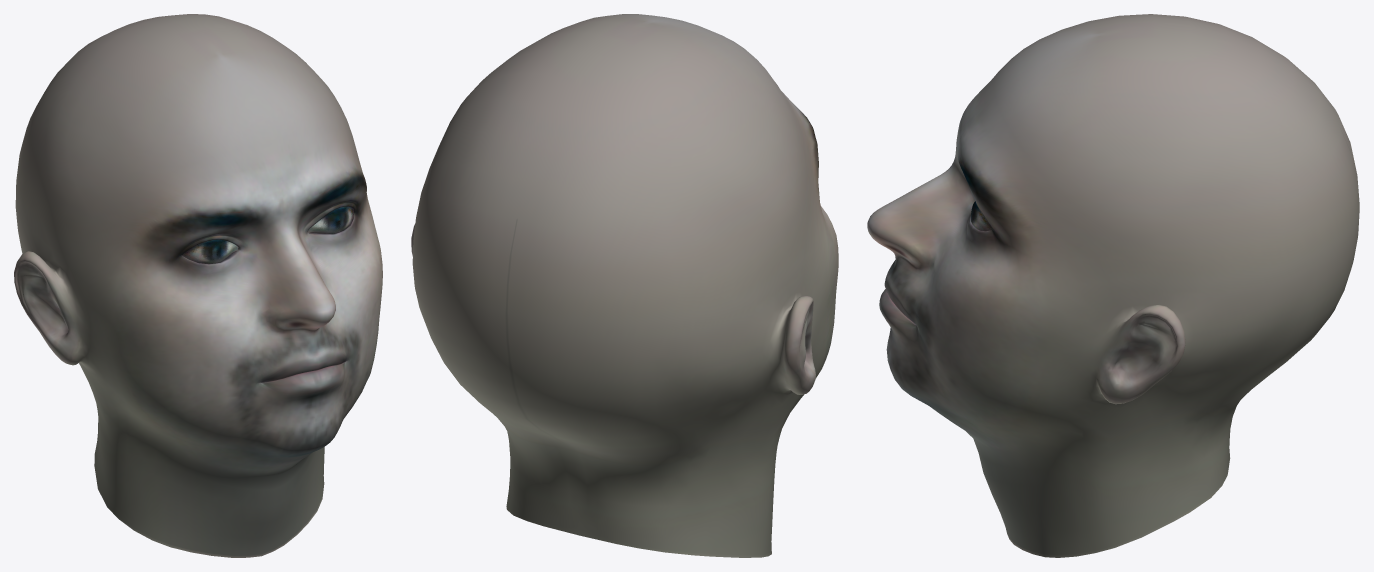
3 renders of one model, left to right at view 1: azimuth 30°, elevation 25°; view 2: azimuth 150°, elevation 25°; view 3: azimuth 270°, elevation 25°, orthographic. The views are drawn at different scales.
Visible parts, largest first — view 1: skin_hi, eyeR_hi, eyeL_hi; view 2: skin_hi; view 3: skin_hi.
Boxes of the visible parts, box(x1,y1,x2,y2) form: skin_hi: box(14, 14, 382, 557); eyeR_hi: box(182, 239, 237, 264); eyeL_hi: box(307, 206, 353, 234); skin_hi: box(411, 14, 838, 557); skin_hi: box(867, 14, 1359, 557).
Size of the model in its own units: 208 by 280 by 247.
Materials: 3 (3 with a texture image).
